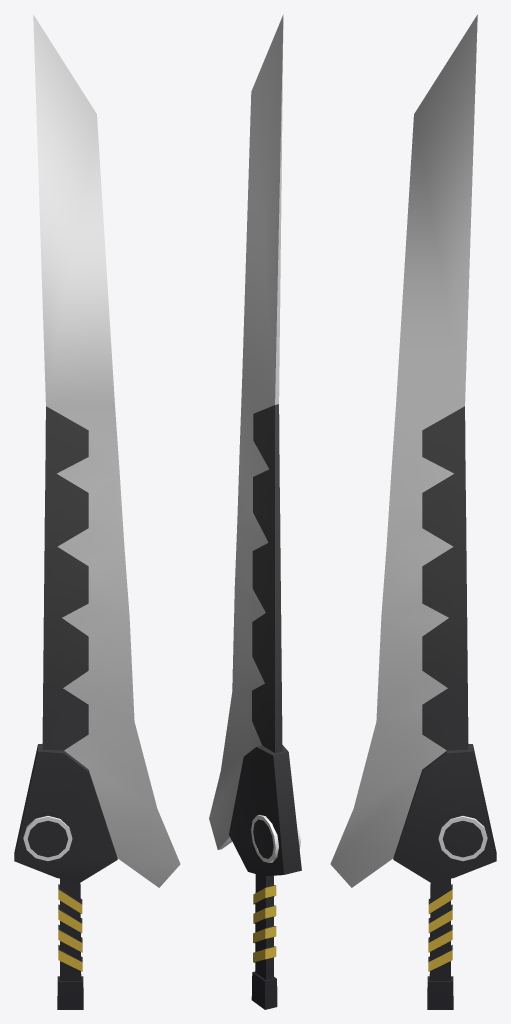
File: Weapon_cyberpunk_large_sword.fbx
The picture shows the model from 3 angles, left to right: view 1: azimuth 90°, elevation 25°; view 2: azimuth 210°, elevation 25°; view 3: azimuth 270°, elevation 25°; orthographic projection.
Visible parts, largest first — view 1: W_KT_3; view 2: W_KT_3; view 3: W_KT_3.
Boxes of the visible parts, x1,y1,x2,y2 form: W_KT_3: (14,14,180,1009); W_KT_3: (209,15,301,1009); W_KT_3: (330,14,496,1009).
Bounding box in the file's own units: 3.16 × 120 × 18.24.
